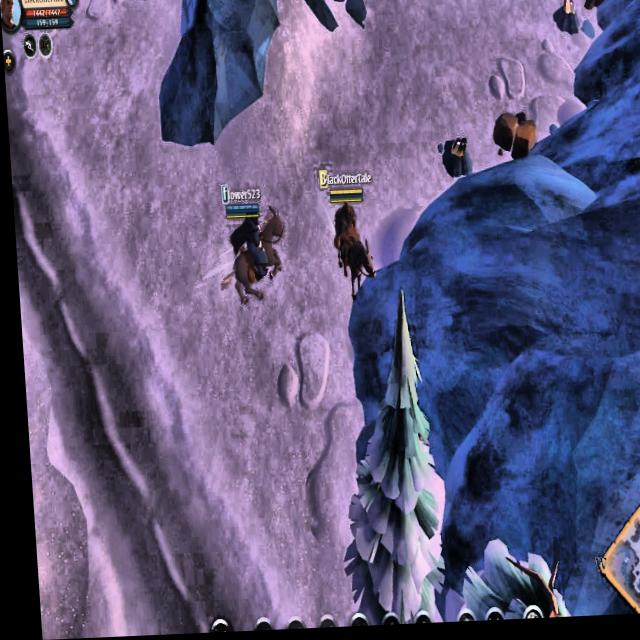copperore: (438, 131, 473, 190), (554, 0, 584, 44)
limestone: (487, 108, 537, 165)
